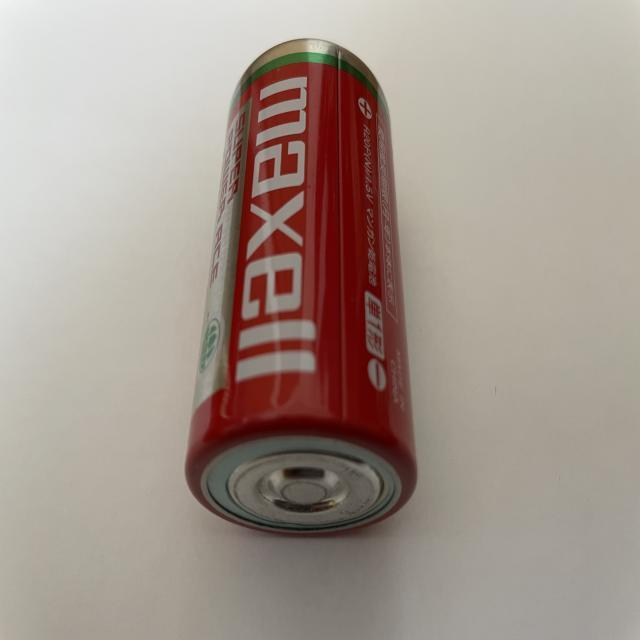Hazard: (180, 34, 422, 538)
